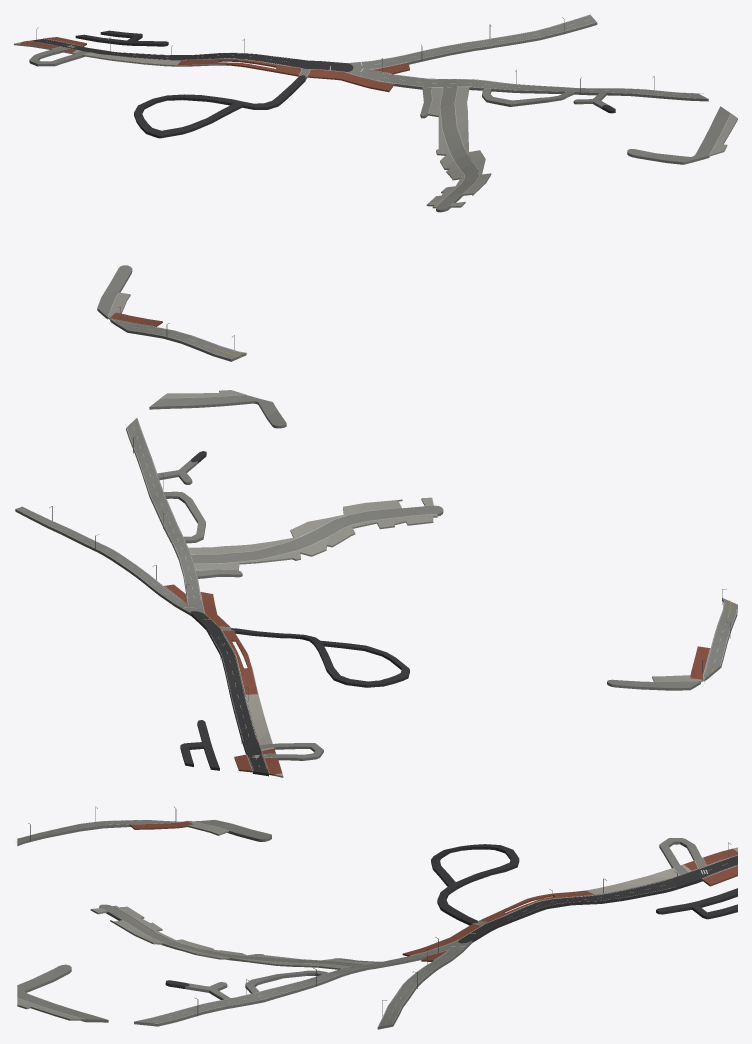
The picture shows the model from 3 angles, top to bottom: view 1: azimuth 30°, elevation 25°; view 2: azimuth 150°, elevation 25°; view 3: azimuth 270°, elevation 25°; orthographic projection. The views are drawn at different scales.
Bounding box in the file's own units: 297 × 52.61 × 293.
